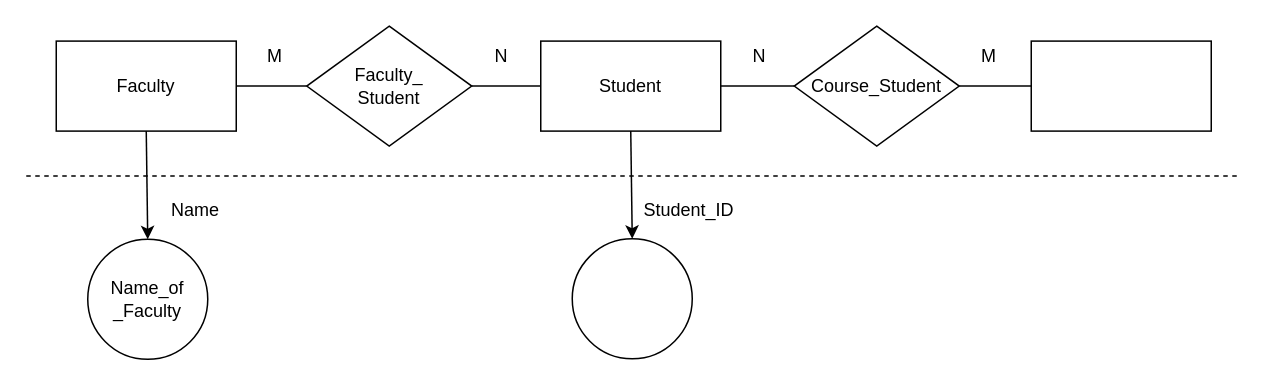
The diagram is 1269 pixels wide and 387 high, and some of its shapes have lost their labels. The box of each missing label's shape, as (x1, y1, x2, y2) in pixels:
Course: (1030, 40, 1211, 131)
ID_Number: (571, 237, 692, 359)
